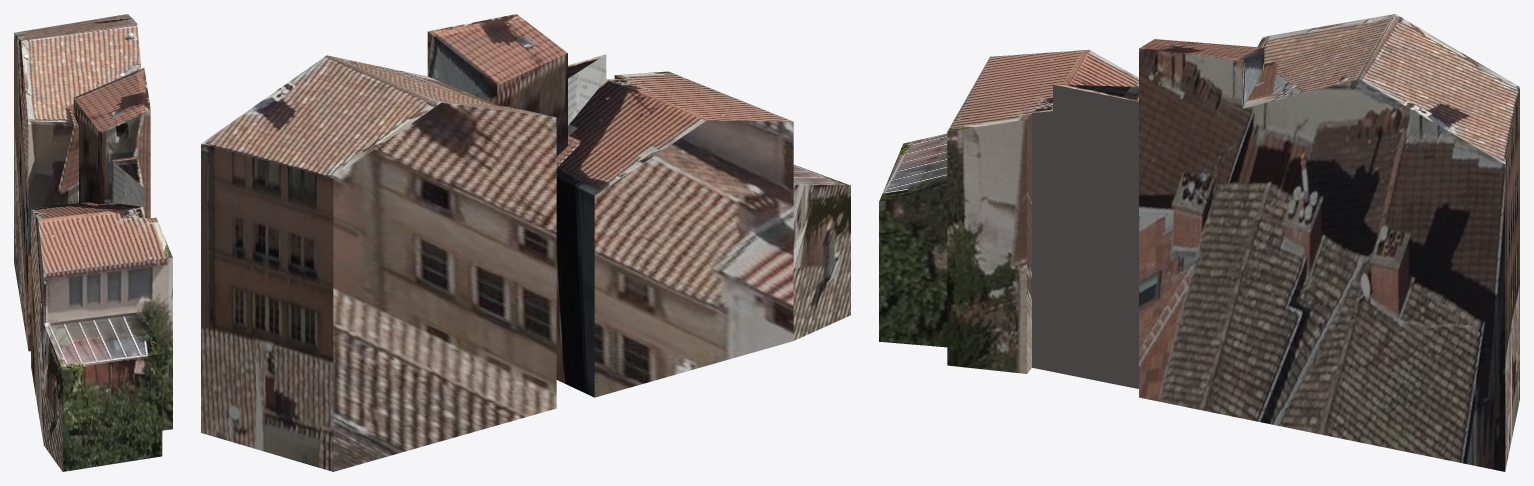
3 views of the same model, side by side, from view 1: azimuth 30°, elevation 25°; view 2: azimuth 150°, elevation 25°; view 3: azimuth 270°, elevation 25° (orthographic). The views are drawn at different scales.
Visible parts, largest first — view 1: Z_UP; view 2: Z_UP; view 3: Z_UP.
Part boxes in pixels (<box>): Z_UP: <box>14,14,172,471</box>; Z_UP: <box>201,14,850,471</box>; Z_UP: <box>879,14,1519,471</box>.
Bounding box in the file's own units: 16.81 × 14.95 × 23.91.
2 materials, 1 textured.
